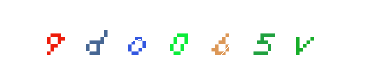0: (142, 0, 222, 80)
5: (201, 0, 281, 80)
6: (147, 0, 227, 80)
9: (14, 0, 94, 80)
D: (72, 0, 152, 80)
O: (79, 0, 159, 80)
V: (203, 0, 283, 80)
